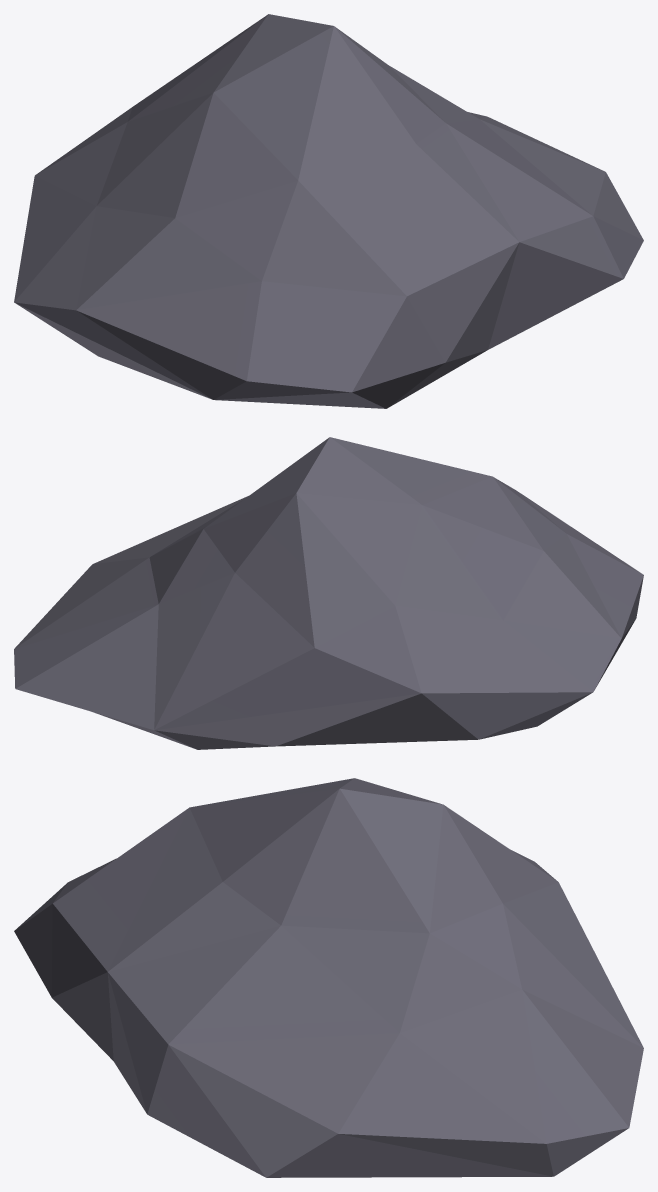
File: bigrock5.fbx
3 renders of one model, top to bottom at view 1: azimuth 30°, elevation 25°; view 2: azimuth 150°, elevation 25°; view 3: azimuth 270°, elevation 25°, orthographic. The views are drawn at different scales.
Visible parts, largest first — view 1: rock.009; view 2: rock.009; view 3: rock.009.
Part boxes in pixels (bbox=[...]): rock.009: bbox=[14, 14, 643, 408]; rock.009: bbox=[14, 437, 643, 749]; rock.009: bbox=[14, 778, 643, 1177].
Bounding box in the file's own units: 213 × 102 × 198.
